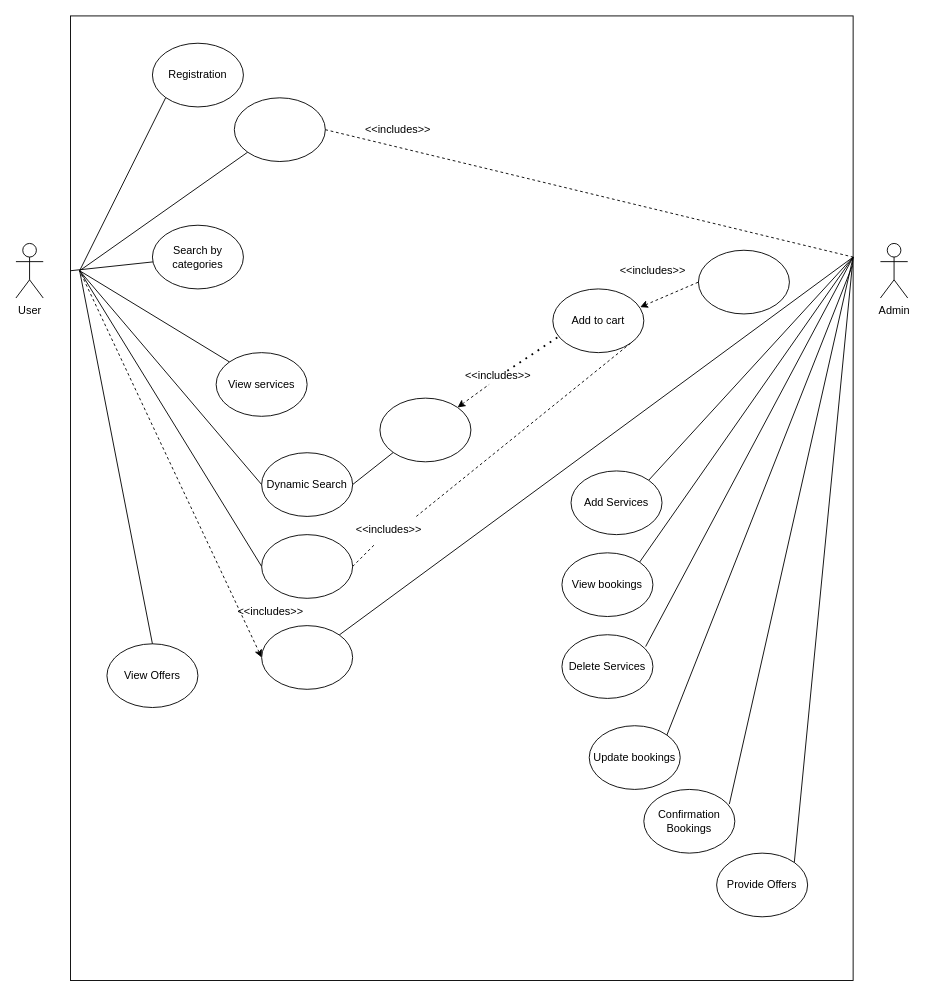
Some shapes in this 925 by 996 pixel diagram are drawn without their labels. Here are the shapes that lost their labels. From the top down, the centre of each, then its label:
At (x=279, y=129): "Login".
At (x=743, y=281): "Checkout".
At (x=425, y=429): "Show recommended result".
At (x=307, y=566): "View Menu".
At (x=307, y=657): "Reviews".
